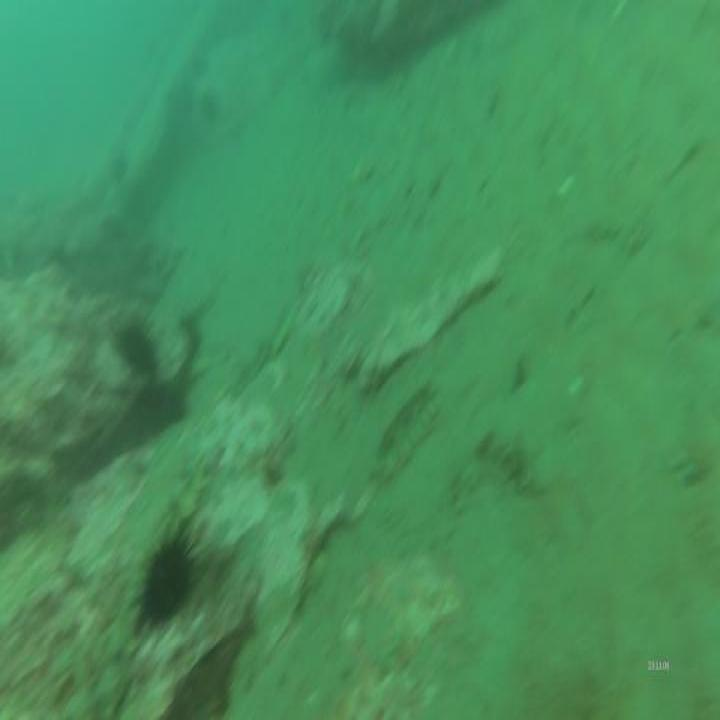echinus: (121, 510, 208, 640), (114, 310, 159, 380)
